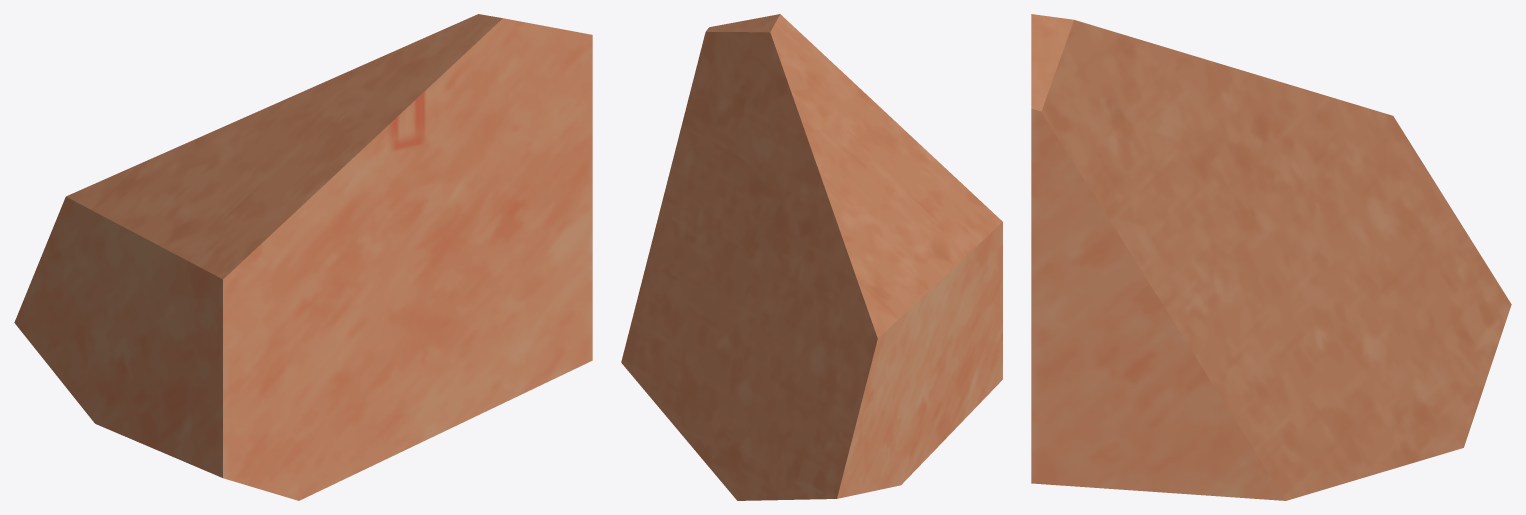
File: townwall_tower_s04.fbx
3 renders of one model, left to right at view 1: azimuth 30°, elevation 25°; view 2: azimuth 150°, elevation 25°; view 3: azimuth 270°, elevation 25°, orthographic. The views are drawn at different scales.
Visible parts, largest first — view 1: townwall_tower_s04; view 2: townwall_tower_s04; view 3: townwall_tower_s04.
Boxes of the visible parts, box(x1,y1,x2,y2) form: townwall_tower_s04: box(14, 14, 592, 500); townwall_tower_s04: box(621, 14, 1002, 500); townwall_tower_s04: box(1031, 14, 1511, 500).
Bounding box in the file's own units: 6.6 × 7.75 × 6.46.
